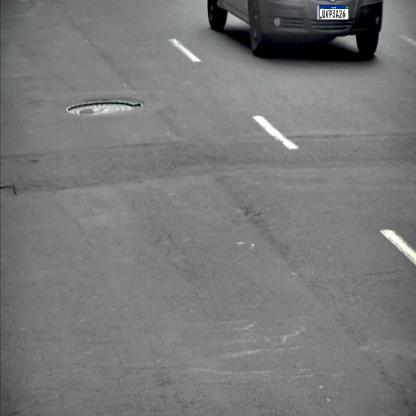PlacaM: (319, 5, 349, 20)
